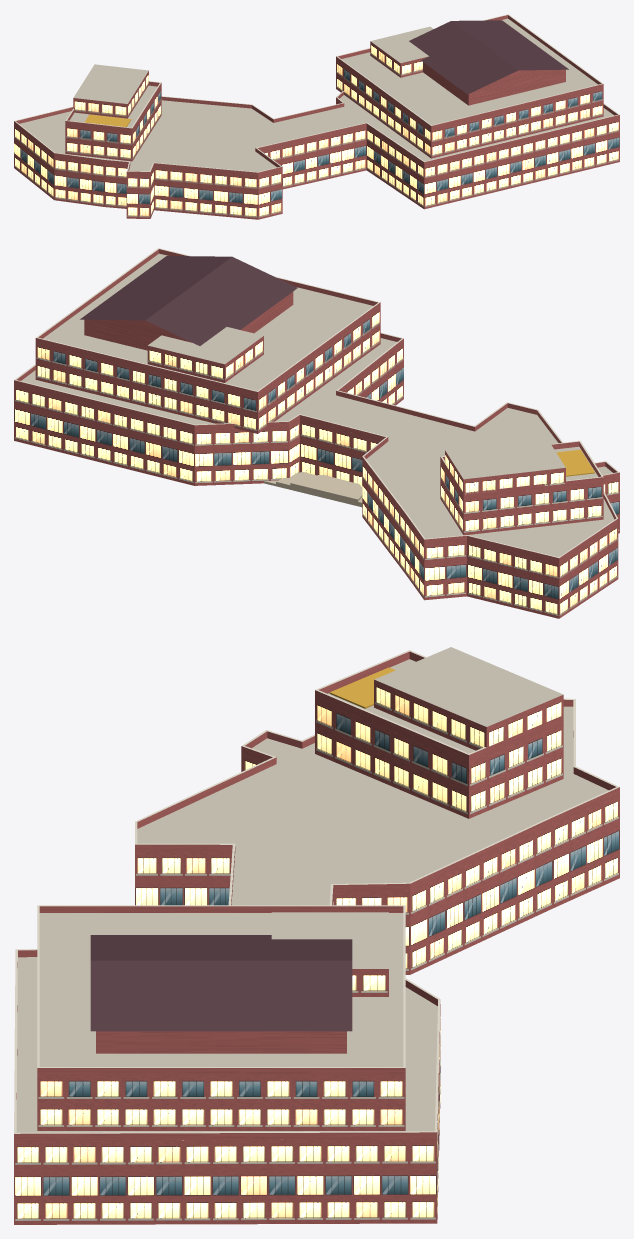
File: activity-center.glb
3 renders of one model, top to bottom at view 1: azimuth 30°, elevation 25°; view 2: azimuth 150°, elevation 25°; view 3: azimuth 270°, elevation 25°, orthographic. The views are drawn at different scales.
Visible parts, largest first — view 1: activity-center.001; view 2: activity-center.001; view 3: activity-center.001.
Boxes of the visible parts, x1,y1,x2,y2 form: activity-center.001: [14, 14, 619, 219]; activity-center.001: [14, 248, 619, 618]; activity-center.001: [14, 647, 619, 1224].
Size of the model in its own units: 124 by 24.7 by 72.34.
Materials: 1 (1 with a texture image).
